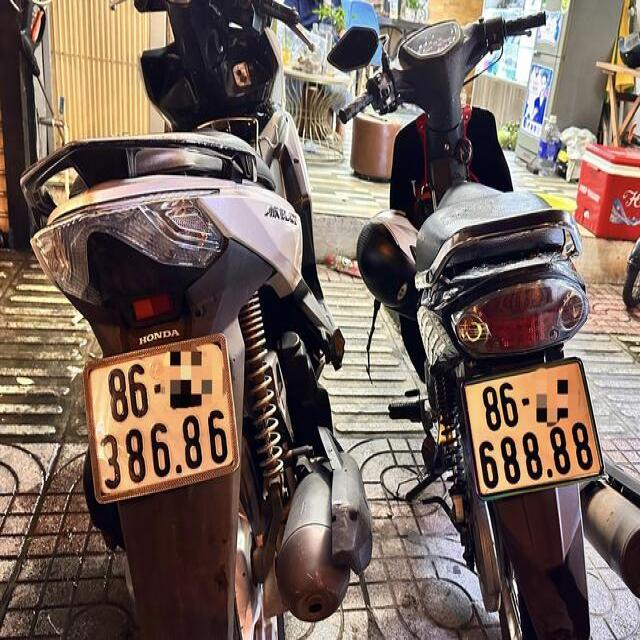motorcycle: (21, 0, 382, 640), (325, 0, 640, 640)
plate: (87, 336, 242, 507), (462, 365, 605, 500)
